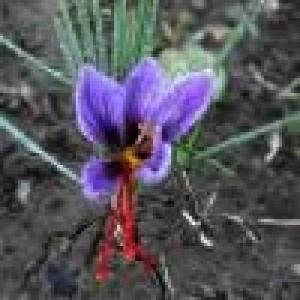Saffron: (76, 60, 216, 199)
